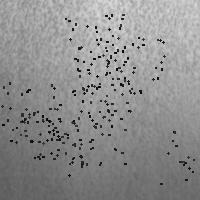pitted_surface: (1, 1, 197, 140), (65, 14, 124, 74), (0, 82, 56, 142), (74, 58, 130, 118), (51, 83, 111, 138), (106, 35, 163, 92), (23, 108, 81, 163), (68, 119, 124, 174), (160, 127, 200, 185)
